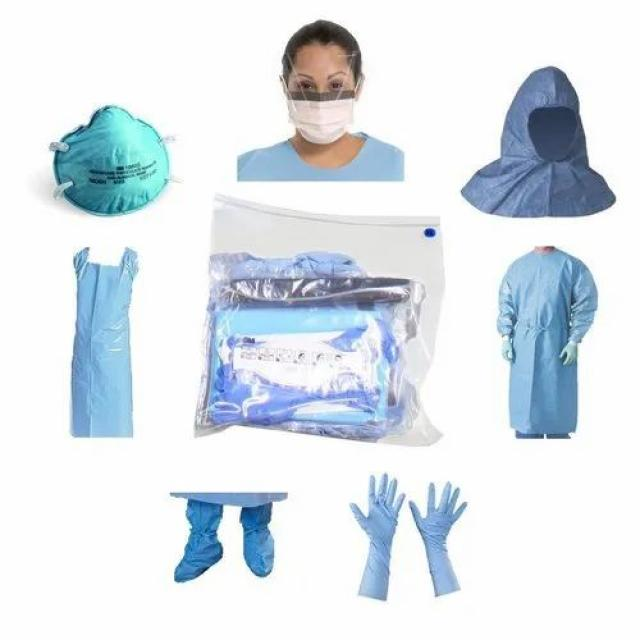Gloves: (344, 475, 474, 604)
Mask: (43, 95, 181, 228), (274, 69, 380, 147)
